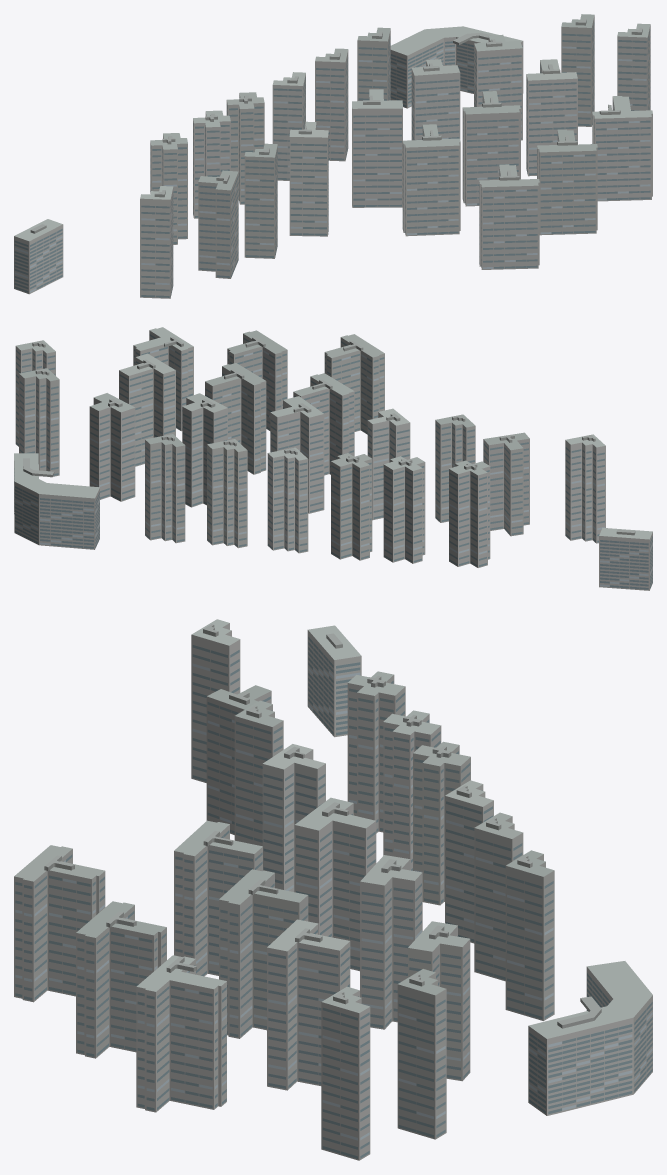
Rendered from apt-a13776509.glb.
3 renders of one model, top to bottom at view 1: azimuth 30°, elevation 25°; view 2: azimuth 150°, elevation 25°; view 3: azimuth 270°, elevation 25°, orthographic. The views are drawn at different scales.
Visible parts, largest first — view 1: apt-a13776509; view 2: apt-a13776509; view 3: apt-a13776509.
Boxes of the visible parts, x1,y1,x2,y2 form: apt-a13776509: (14, 14, 652, 298); apt-a13776509: (14, 327, 652, 590); apt-a13776509: (14, 619, 652, 1160).
Bounding box in the file's own units: 583 × 90 × 344.
